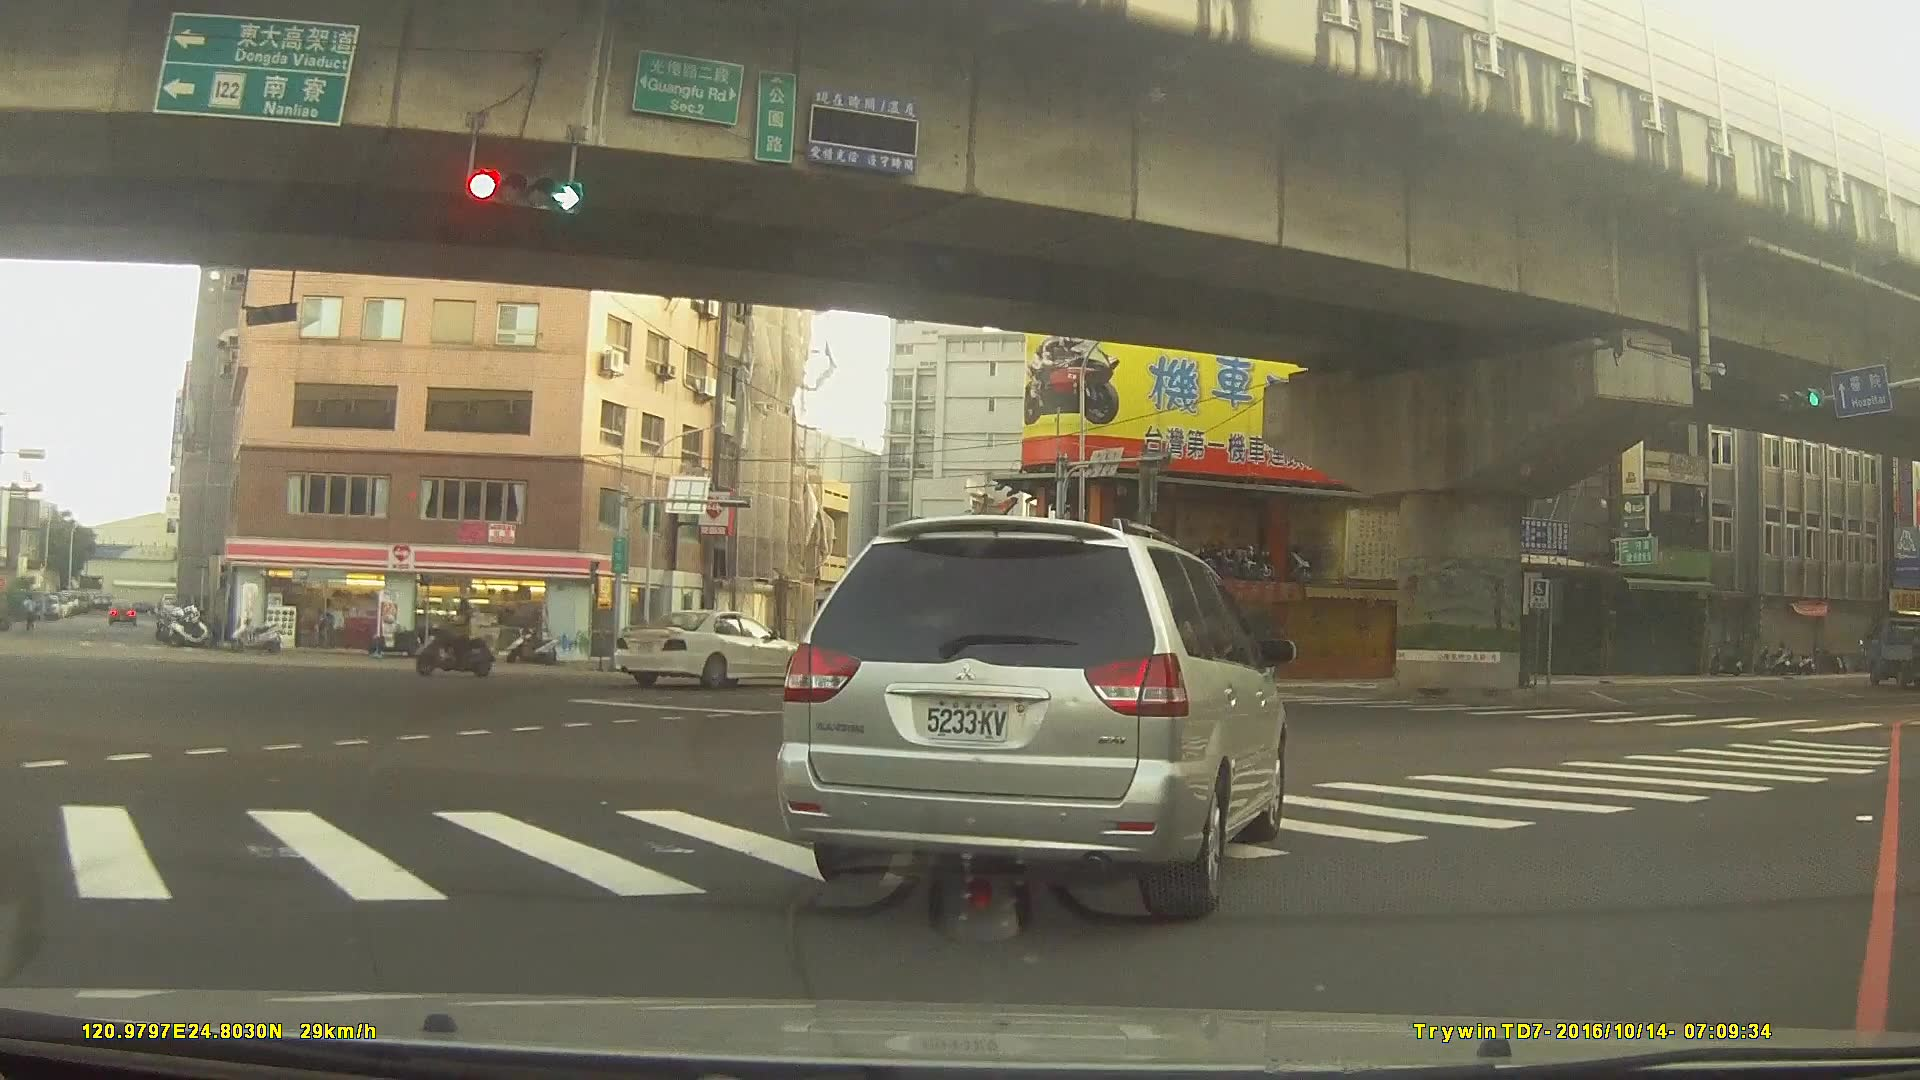rider: (417, 599, 495, 679)
vehicle: (768, 513, 1287, 920), (609, 608, 806, 687), (1861, 615, 1920, 686), (801, 635, 874, 677), (105, 599, 136, 626)
